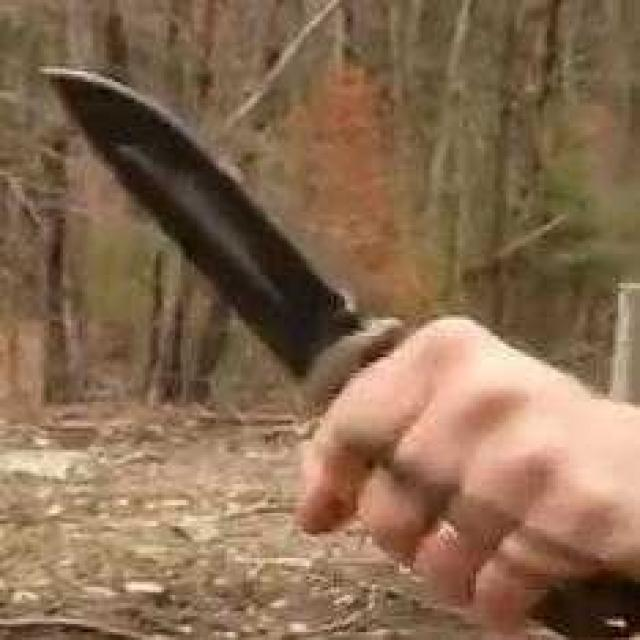Knife: (33, 61, 640, 640)
